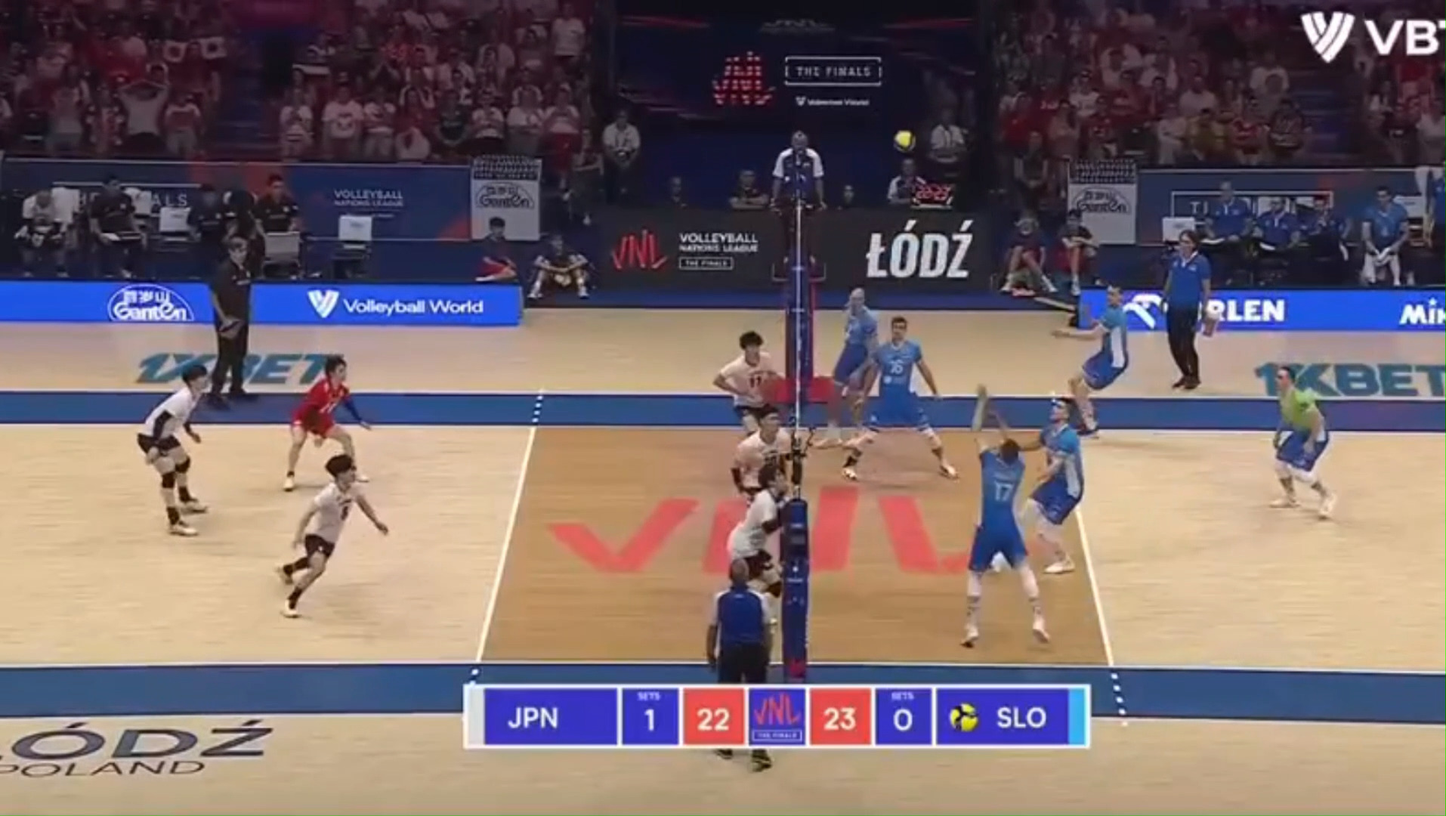ball: (894, 130, 915, 152)
player: (961, 421, 1049, 648), (841, 316, 956, 480), (1055, 286, 1129, 435), (1024, 396, 1083, 573), (1271, 366, 1334, 518), (821, 288, 878, 446)
player 1: (278, 454, 389, 618), (136, 364, 208, 536), (283, 355, 369, 490), (728, 460, 786, 595), (713, 331, 780, 432), (733, 411, 793, 493)
referee: (771, 131, 825, 286), (706, 559, 771, 684), (1162, 230, 1211, 390), (209, 235, 252, 402), (752, 749, 771, 769)
